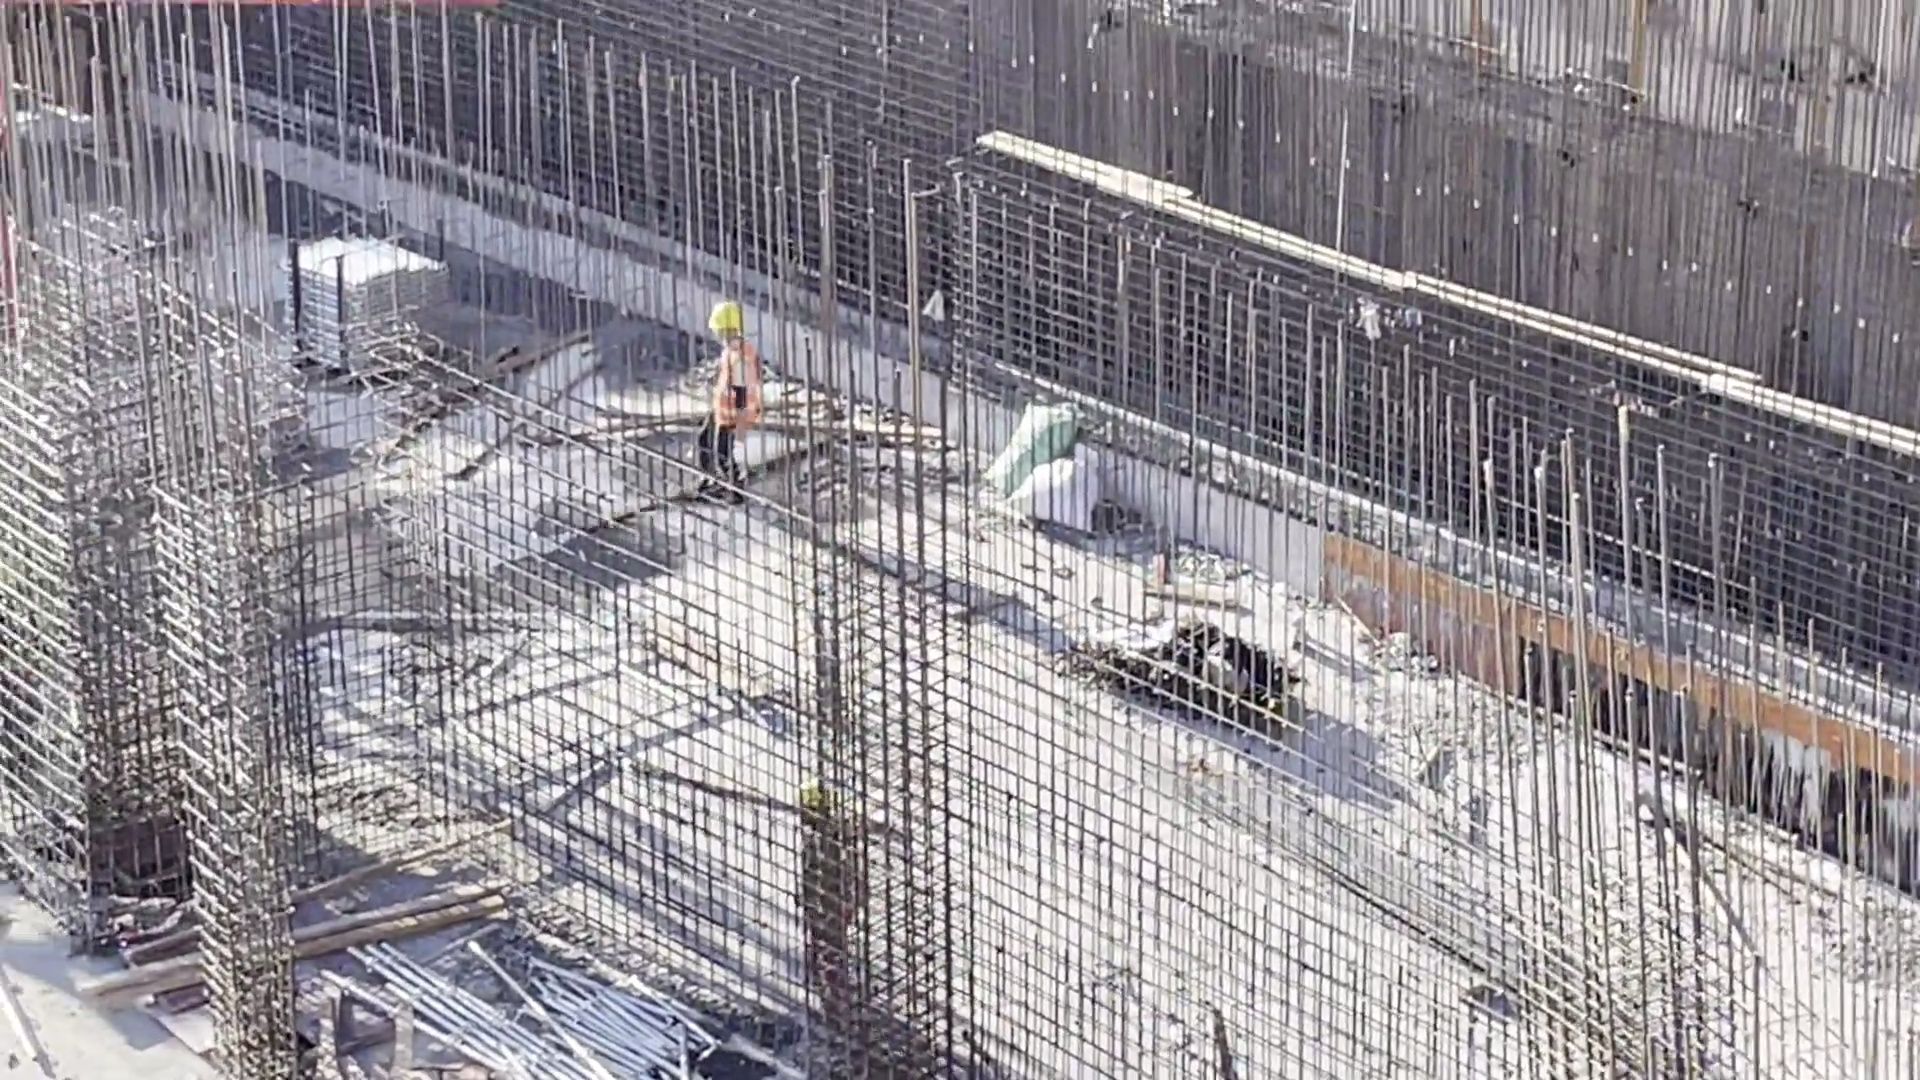helmet: (699, 298, 755, 342), (801, 780, 847, 827)
person: (793, 786, 885, 1028), (692, 295, 767, 489)
scaffold: (367, 938, 711, 1080), (277, 236, 454, 394)
vest: (693, 344, 766, 431), (806, 830, 871, 916)
